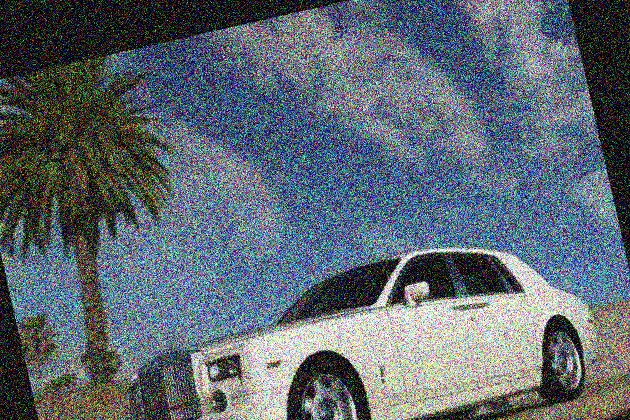car: (64, 187, 624, 420)
